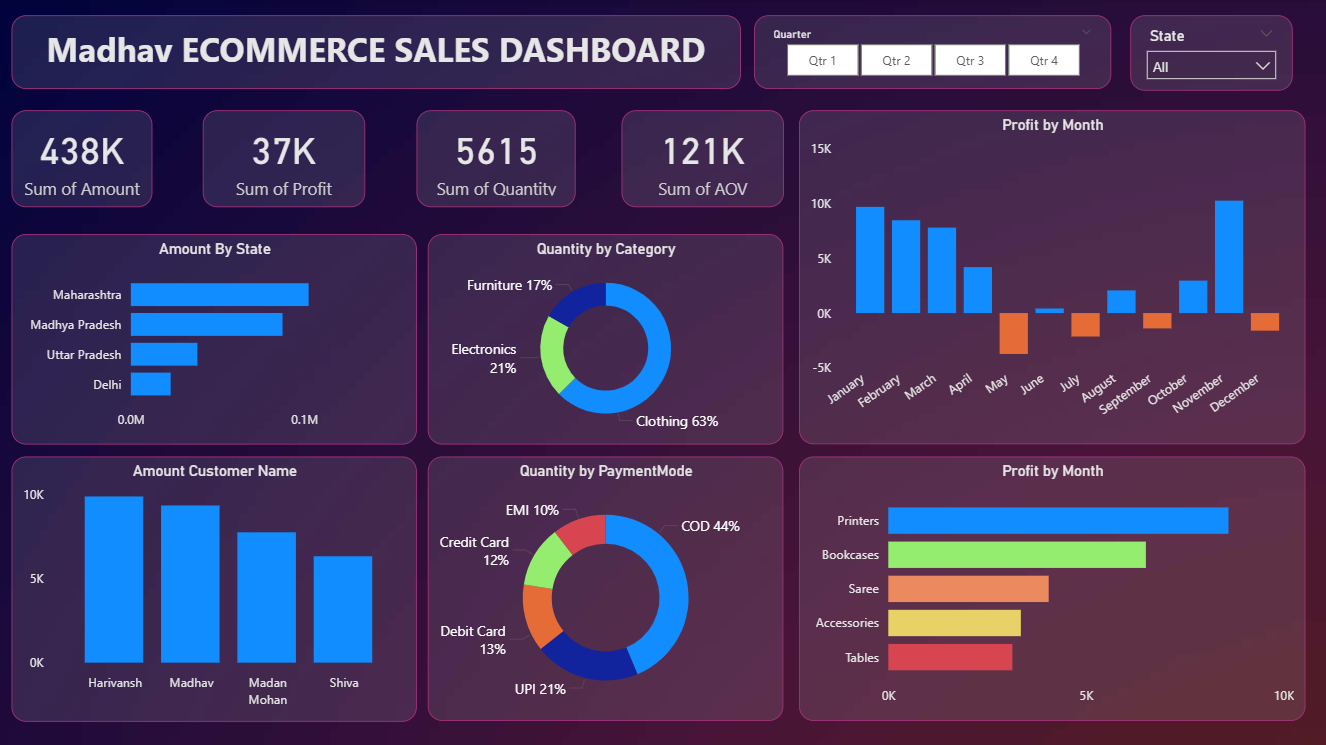

Layout of this report page (visuals, bound fields, positions):
{"tool":"powerbi","page":{"name":"Page 1","canvas":[1280,720],"ordinal":0},"visuals":[{"type":"columnChart","title":"Profit by Month","fields":{"Y":["Details.Profit"],"Category":["Orders.Order Date.Variation.Date Hierarchy.Month"]},"box":[772.6,107,488.5,322.5],"z":0},{"type":"textbox","box":[12.3,15.1,703.9,71.4],"z":1000},{"type":"barChart","title":"Profit by Month","fields":{"Y":["Details.Profit"],"Category":["Details.Sub-Category"]},"box":[772.6,441.9,488.5,255.2],"z":2000},{"type":"donutChart","title":" Quantity by Category","fields":{"Y":["Details.Quantity"],"Category":["Details.Category"]},"box":[414.4,226.4,343.1,203.1],"z":3000},{"type":"donutChart","title":"Quantity by PaymentMode","fields":{"Y":["Details.Quantity"],"Category":["Details.PaymentMode"]},"box":[414.4,441.9,343.1,255.2],"z":4000},{"type":"card","fields":{"Values":["Details.Profit"]},"box":[196.2,107,156.4,93.3],"z":5000},{"type":"card","fields":{"Values":["Details.Quantity"]},"box":[403.4,107,153.7,93.3],"z":6000},{"type":"card","fields":{"Values":["Details.Amount"]},"box":[12.3,107,135.8,93.3],"z":7000},{"type":"card","fields":{"Values":["Details.AOV"]},"box":[601,107,156.4,93.3],"z":8000},{"type":"barChart","title":"Amount By State","fields":{"Category":["Orders.State"],"Y":["Details.Amount"]},"box":[12.3,226.4,391.1,203.1],"z":9000},{"type":"columnChart","title":"Amount Customer Name","fields":{"Y":["Details.Amount"],"Category":["Orders.CustomerName"]},"box":[12.1,441.6,390.9,255.8],"z":10000},{"type":"slicer","fields":{"Values":["Orders.Order Date.Variation.Date Hierarchy.Quarter"]},"box":[728.6,15.1,344.4,71.4],"z":11000},{"type":"slicer","fields":{"Values":["Orders.State"]},"box":[1092.3,15.1,156.4,72.7],"z":11001}]}

Visuals, with their boxes in screenshot pixels (x1, y1, x2, y2), scaled from the page's 1280x720 canvas onto the 1326x745 screenshot:
"Profit by Month" columnChart: locate(800, 111, 1306, 444)
textbox: locate(13, 16, 742, 90)
"Profit by Month" barChart: locate(800, 457, 1306, 721)
" Quantity by Category" donutChart: locate(429, 234, 785, 444)
"Quantity by PaymentMode" donutChart: locate(429, 457, 785, 721)
card - Details.Profit: locate(203, 111, 365, 207)
card - Details.Quantity: locate(418, 111, 577, 207)
card - Details.Amount: locate(13, 111, 153, 207)
card - Details.AOV: locate(623, 111, 785, 207)
"Amount By State" barChart: locate(13, 234, 418, 444)
"Amount Customer Name" columnChart: locate(13, 457, 417, 722)
slicer - Orders.Order Date.Variation.Date Hierarchy.Quarter: locate(755, 16, 1112, 90)
slicer - Orders.State: locate(1132, 16, 1294, 91)
